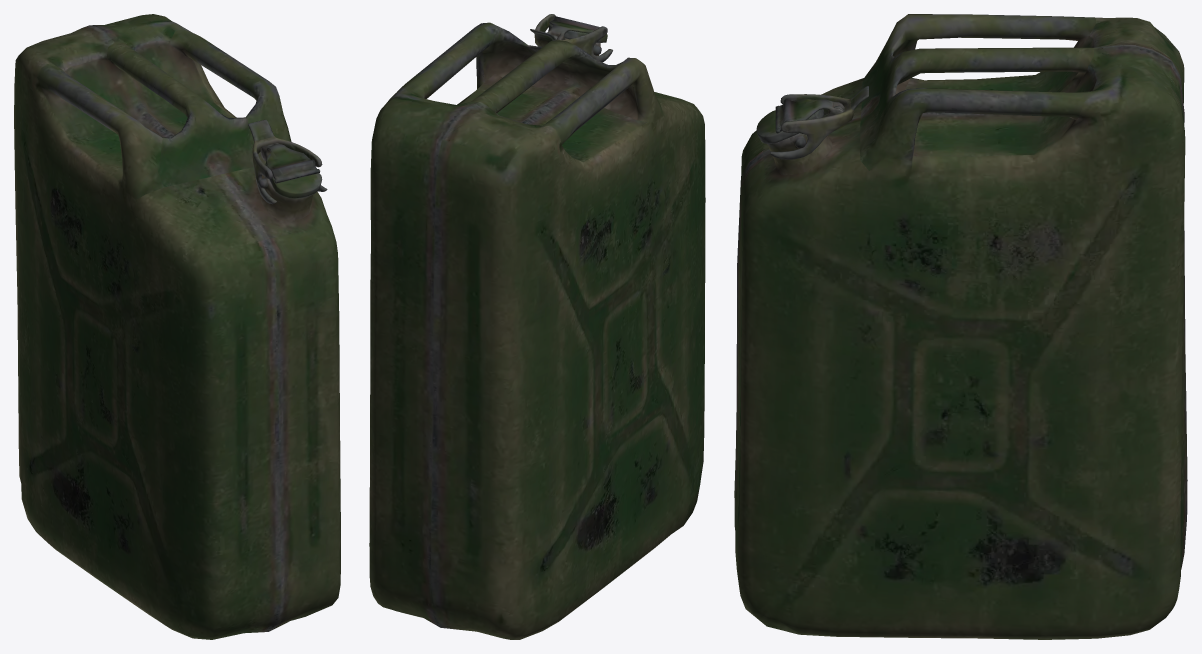
File: jerrycan-opt.glb
3 renders of one model, left to right at view 1: azimuth 30°, elevation 25°; view 2: azimuth 150°, elevation 25°; view 3: azimuth 270°, elevation 25°, orthographic. The views are drawn at different scales.
Visible parts, largest first — view 1: Object_2; view 2: Object_2; view 3: Object_2.
Part boxes in pixels (<box>): Object_2: <box>14,14,340,639</box>; Object_2: <box>369,14,705,639</box>; Object_2: <box>734,14,1187,639</box>.
Bounding box in the file's own units: 0.2081 × 0.5787 × 0.4279.
1 material, 1 textured.
